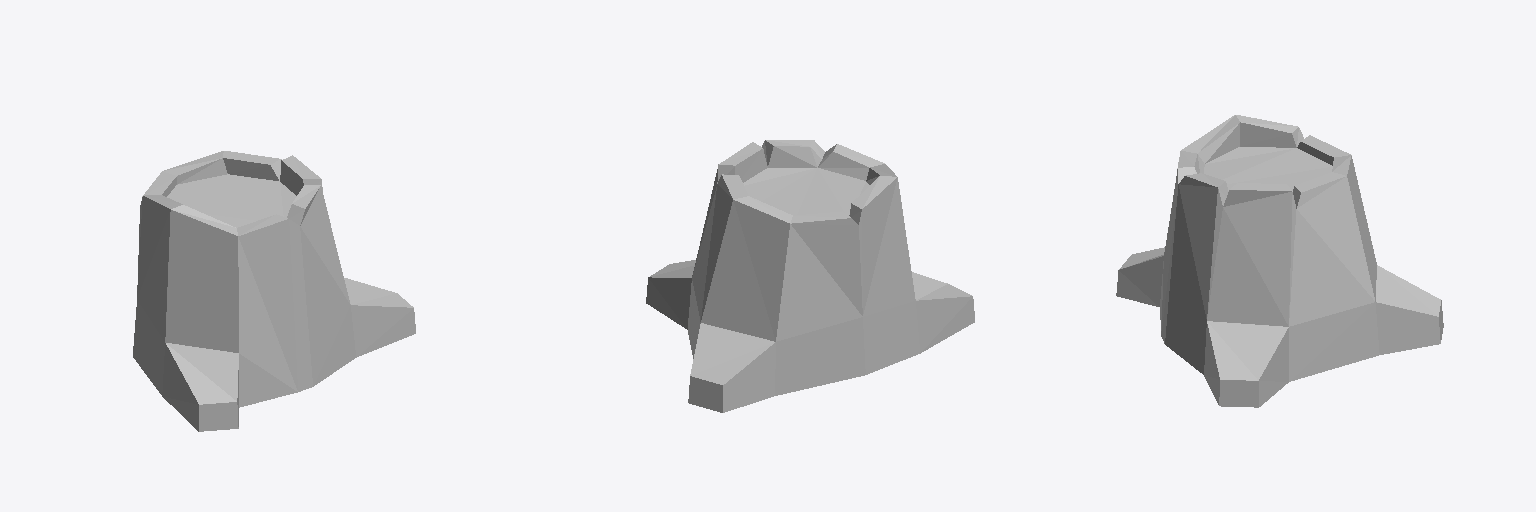
The model's file is stump3.obj.
The picture shows the model from 3 angles: view 1: azimuth 30°, elevation 25°; view 2: azimuth 150°, elevation 25°; view 3: azimuth 270°, elevation 25°; orthographic projection.
Parts seen in each view (by area): view 1: Stump3_Cylinder.041; view 2: Stump3_Cylinder.041; view 3: Stump3_Cylinder.041.
Part boxes in pixels (left/top/right/bottom): Stump3_Cylinder.041: left=133, top=151, right=415, bottom=431; Stump3_Cylinder.041: left=646, top=140, right=974, bottom=412; Stump3_Cylinder.041: left=1116, top=115, right=1443, bottom=407.
Bounding box in the file's own units: 1.75 × 1.13 × 1.88.